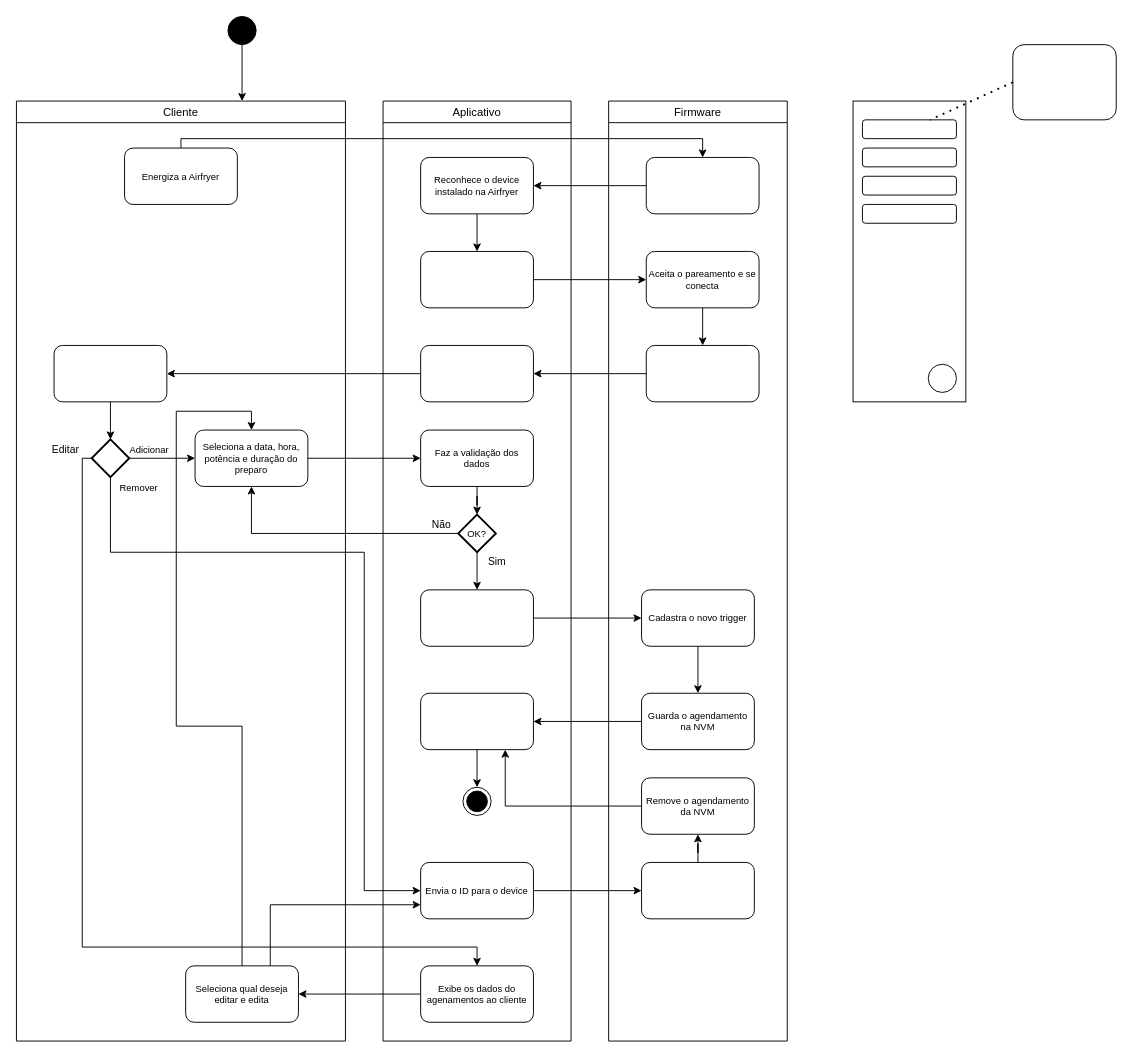
Some shapes in this 1133 by 1058 pixel diagram are drawn without their labels. Each missing label, with the centre of its shape:
"Cliente escolhe uma nova operação com agendamento" belongs at pixel 110 373.
"Cria um ID e envia junto ao agendamento ao firmware" belongs at pixel 476 617.
"Envia o advertisement" belongs at pixel 702 185.
"Envia todos os agendamentos guardados na NVM" belongs at pixel 702 373.
"Exibe ao cliente que a operação deu certo" belongs at pixel 476 721.
"Exibe os atuais agendamentos ao cliente" belongs at pixel 476 373.
"Faz o pareamento com o firmware" belongs at pixel 476 279.
"Remove o agendamento do trigger" belongs at pixel 697 890.
